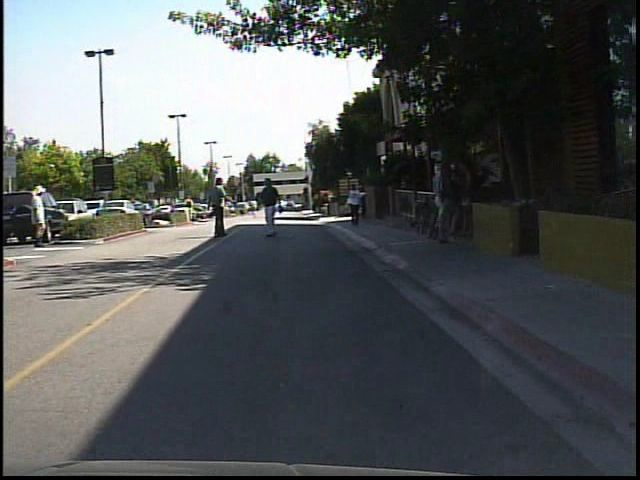person: (427, 151, 462, 248), (455, 161, 481, 246), (204, 173, 236, 242), (256, 178, 289, 240), (26, 181, 54, 250), (344, 181, 366, 233), (249, 195, 266, 219), (189, 197, 190, 223)
